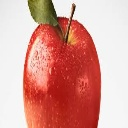apple: (22, 17, 101, 128)
